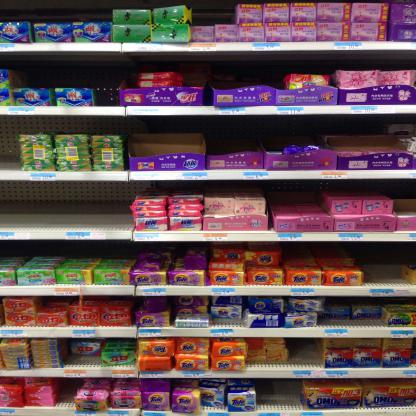Void: (2, 184, 130, 226), (186, 59, 280, 84), (208, 118, 280, 150), (22, 114, 129, 133), (6, 243, 130, 258), (16, 57, 90, 81), (9, 2, 106, 20), (144, 183, 263, 196), (359, 245, 400, 281), (280, 241, 352, 259), (192, 2, 238, 26), (134, 117, 202, 133), (94, 58, 118, 102), (267, 183, 316, 204), (260, 382, 300, 407), (2, 116, 22, 165), (334, 117, 388, 135), (288, 118, 319, 140), (328, 183, 389, 193), (294, 340, 316, 361), (56, 381, 75, 404), (400, 184, 414, 206), (74, 357, 98, 367), (44, 300, 66, 306)
